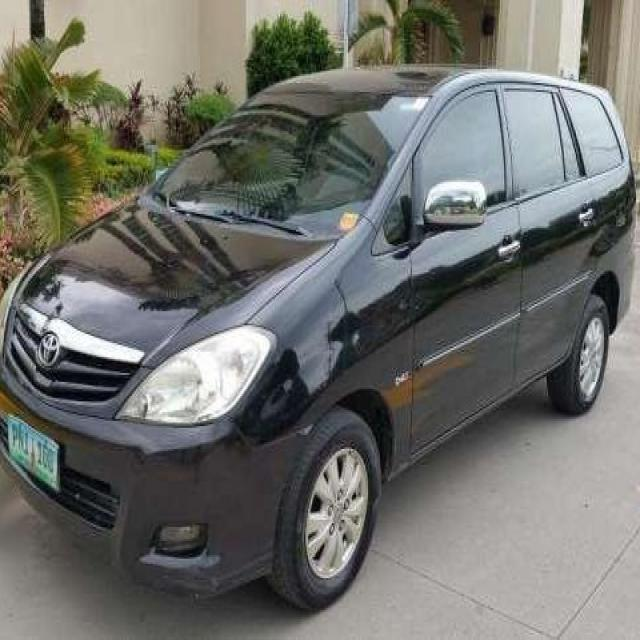light_vehicle: (1, 61, 638, 613)
